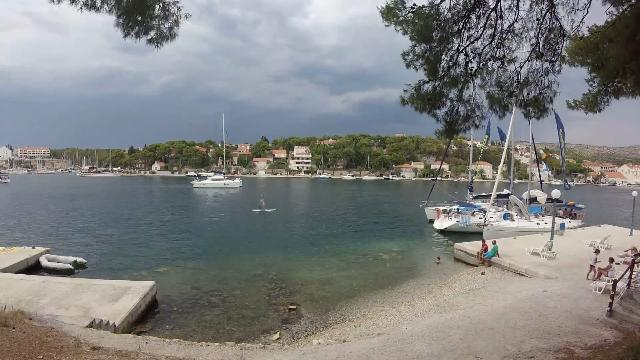Freighter: (72, 162, 126, 178)
Sailboat: (184, 169, 248, 191)
